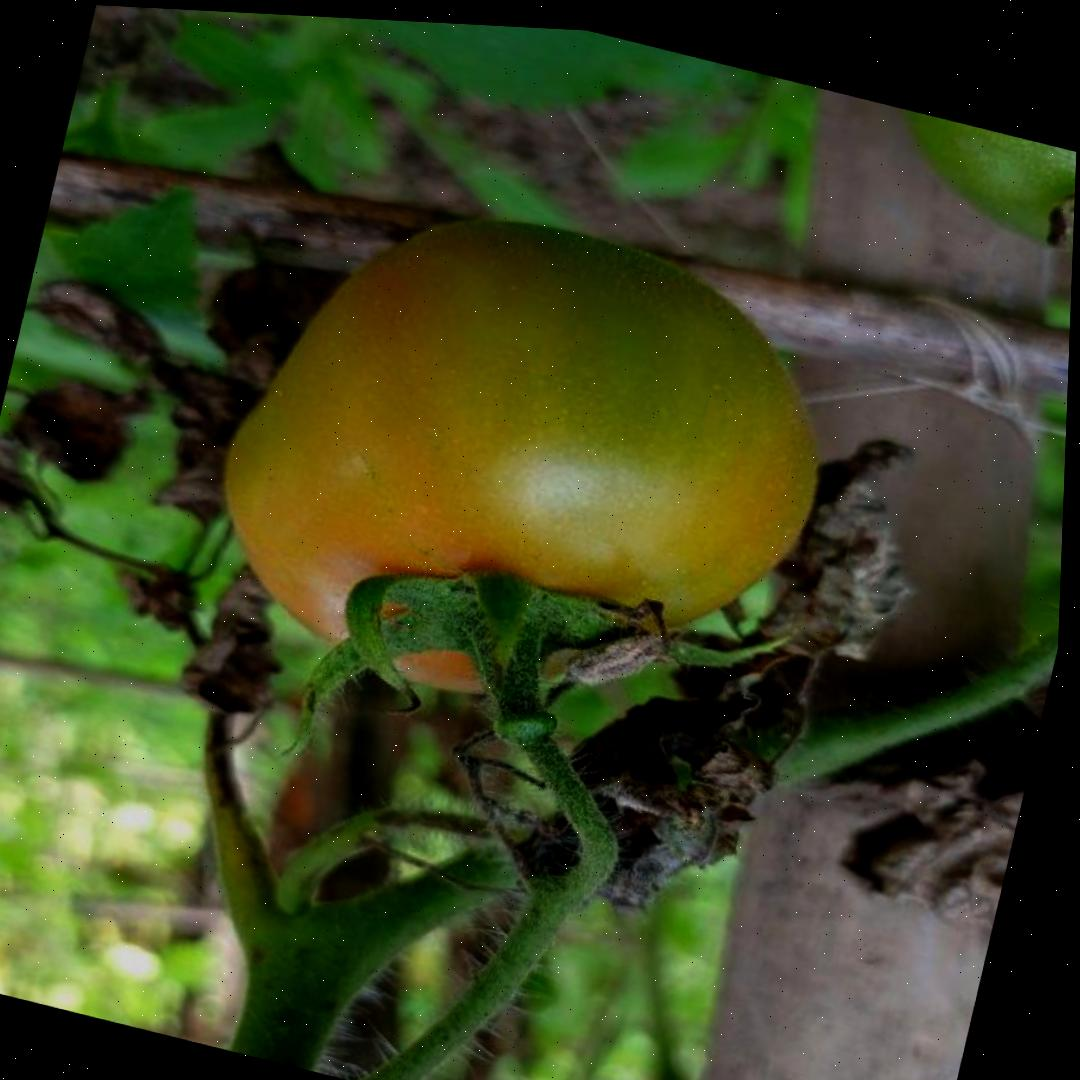setengah_matang: (174, 154, 865, 776)
